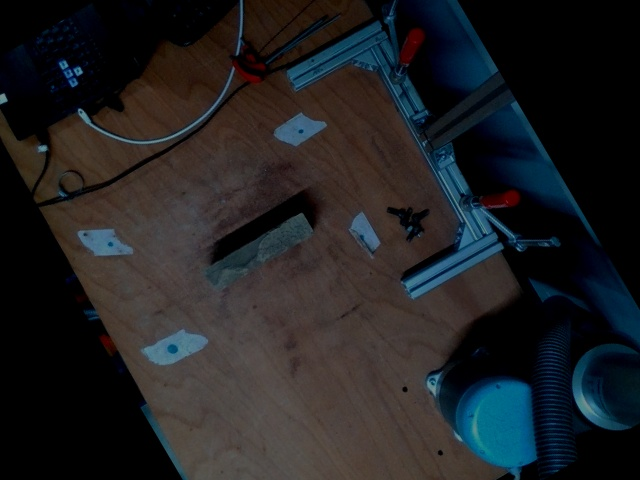brick-side: (202, 211, 314, 291)
